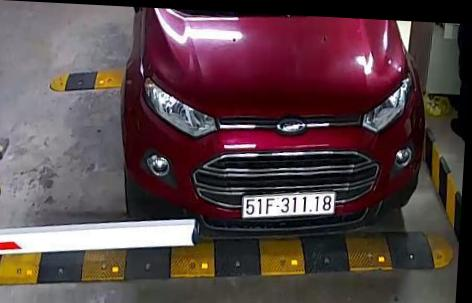License_Plate: (237, 187, 338, 224)
